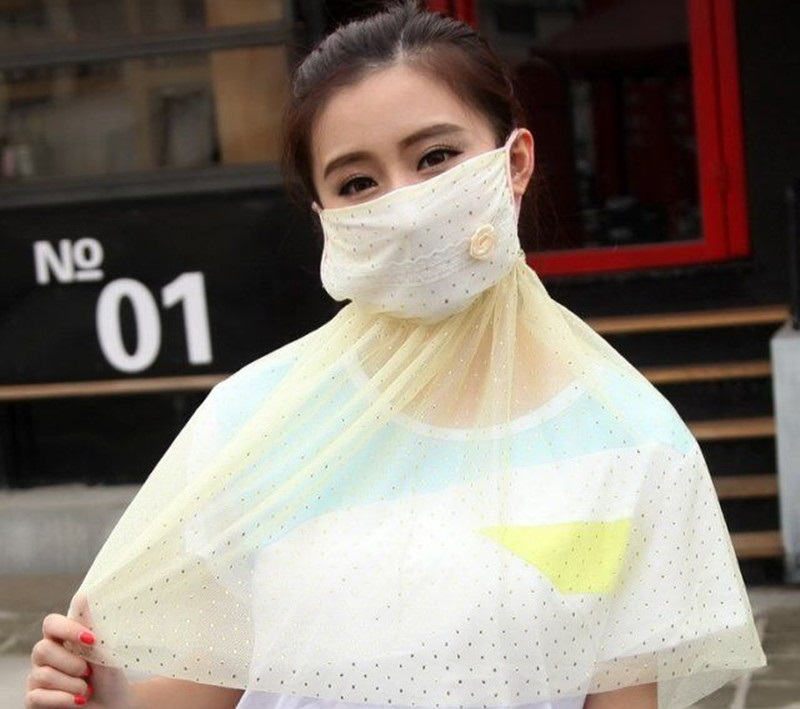face_mask: (317, 70, 507, 322)
